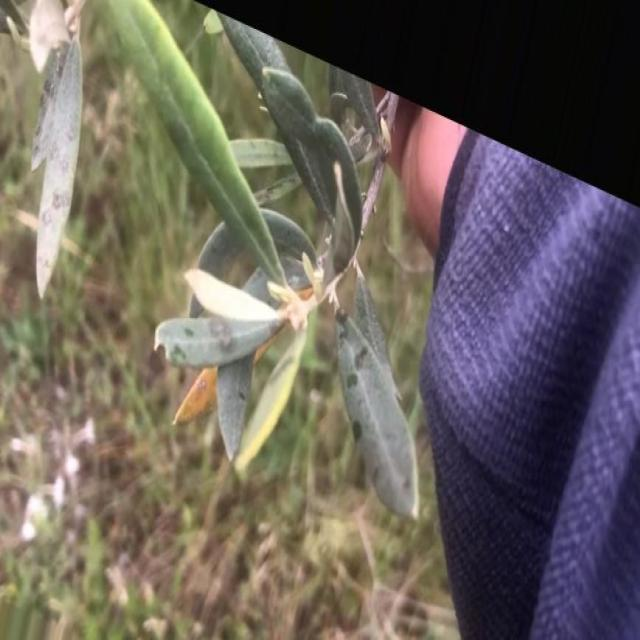Peacock Eye: (338, 311, 418, 517), (32, 36, 82, 297), (154, 318, 285, 367)
